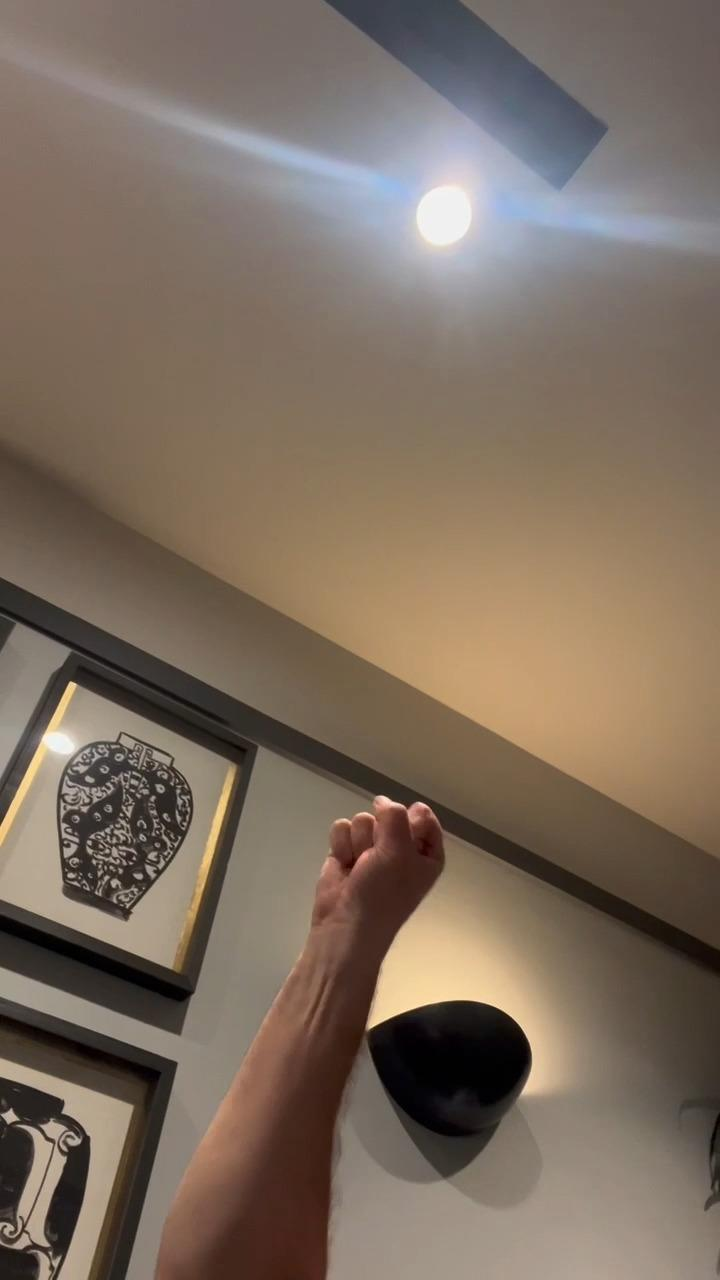Rock: (308, 790, 448, 928)
